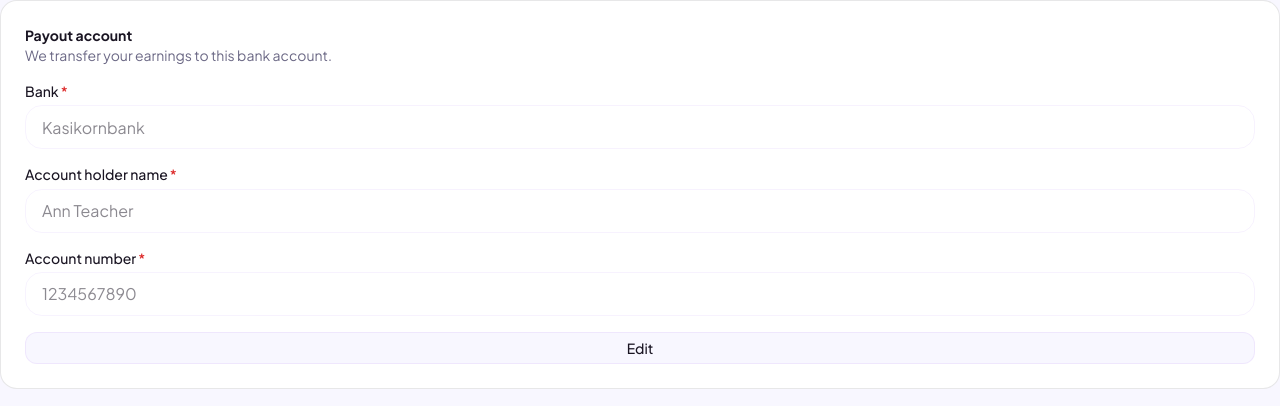
PayoutAccountForm › Edit unlocks the fields without saving
Click the button "Edit": x=640, y=348 [25, 332, 1255, 364]
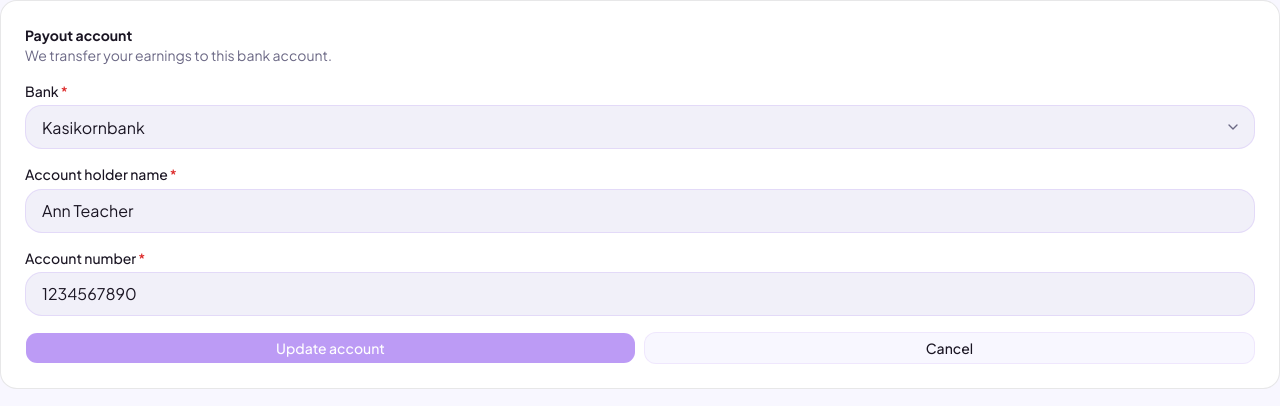
Result: the field labelled "Account holder name*" is enabled at [25, 188, 1255, 232]
Result: the button "Update account" is disabled at [25, 332, 636, 364]
Result: the button "Cancel" is enabled at [644, 332, 1255, 364]
